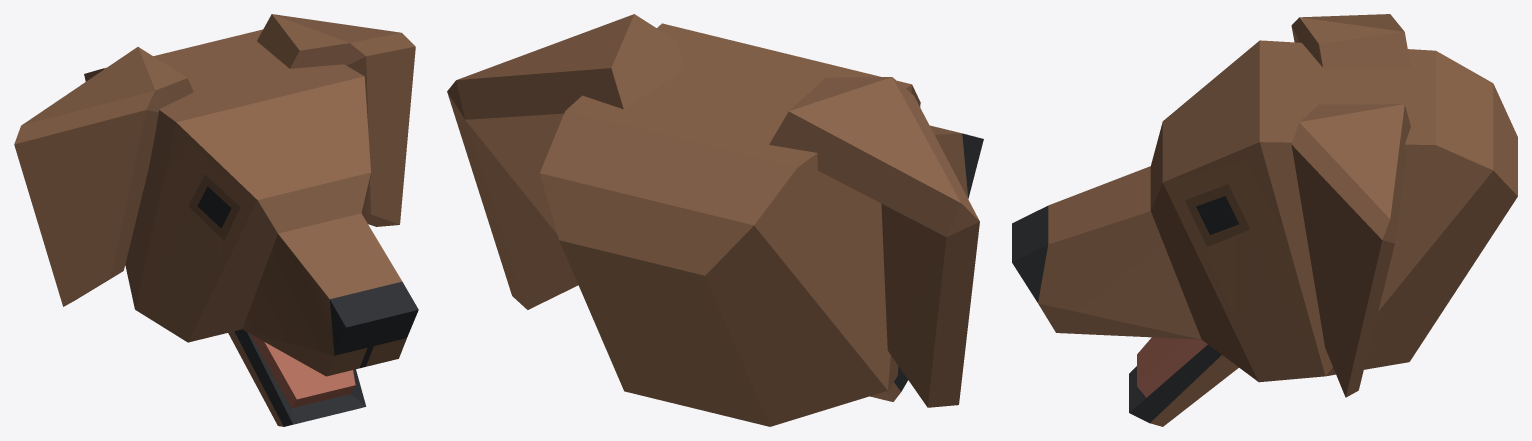
File: SM_Prop_Car_Ornament_Head_02.obj
The picture shows the model from 3 angles, left to right: view 1: azimuth 30°, elevation 25°; view 2: azimuth 150°, elevation 25°; view 3: azimuth 270°, elevation 25°; orthographic projection. The views are drawn at different scales.
Parts seen in each view (by area): view 1: SM_Prop_Car_Ornament_Head_02_0; view 2: SM_Prop_Car_Ornament_Head_02_0; view 3: SM_Prop_Car_Ornament_Head_02_0.
Part boxes in pixels (bbox=[...]): SM_Prop_Car_Ornament_Head_02_0: bbox=[14, 14, 418, 426]; SM_Prop_Car_Ornament_Head_02_0: bbox=[447, 14, 983, 426]; SM_Prop_Car_Ornament_Head_02_0: bbox=[1012, 14, 1517, 426].
Bounding box in the file's own units: 0.1388 × 0.1013 × 0.137.
1 material, 1 textured.
